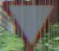Give way: (2, 1, 54, 50)
